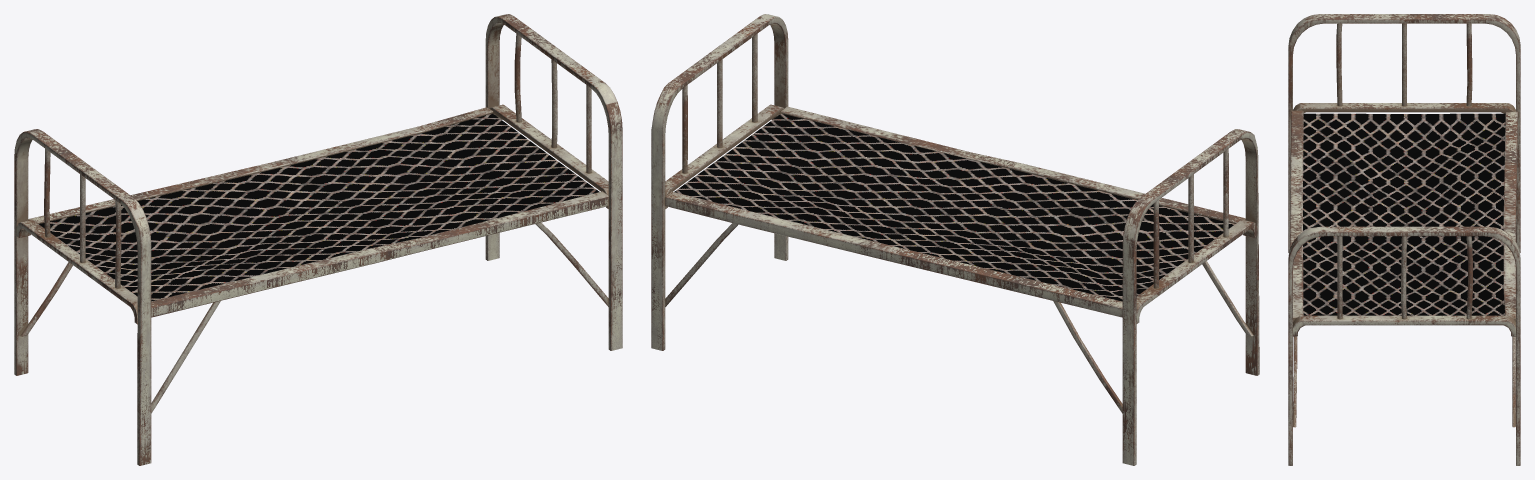
File: SM_bed.fbx
3 views of the same model, side by side, from view 1: azimuth 30°, elevation 25°; view 2: azimuth 150°, elevation 25°; view 3: azimuth 270°, elevation 25° (orthographic). The views are drawn at different scales.
Visible parts, largest first — view 1: SM_bed_LOD0; view 2: SM_bed_LOD0; view 3: SM_bed_LOD0.
Boxes of the visible parts, bbox=[...] form: SM_bed_LOD0: bbox=[14, 14, 622, 465]; SM_bed_LOD0: bbox=[651, 14, 1259, 465]; SM_bed_LOD0: bbox=[1288, 14, 1520, 465].
Size of the model in its own units: 200 by 90 by 100.
